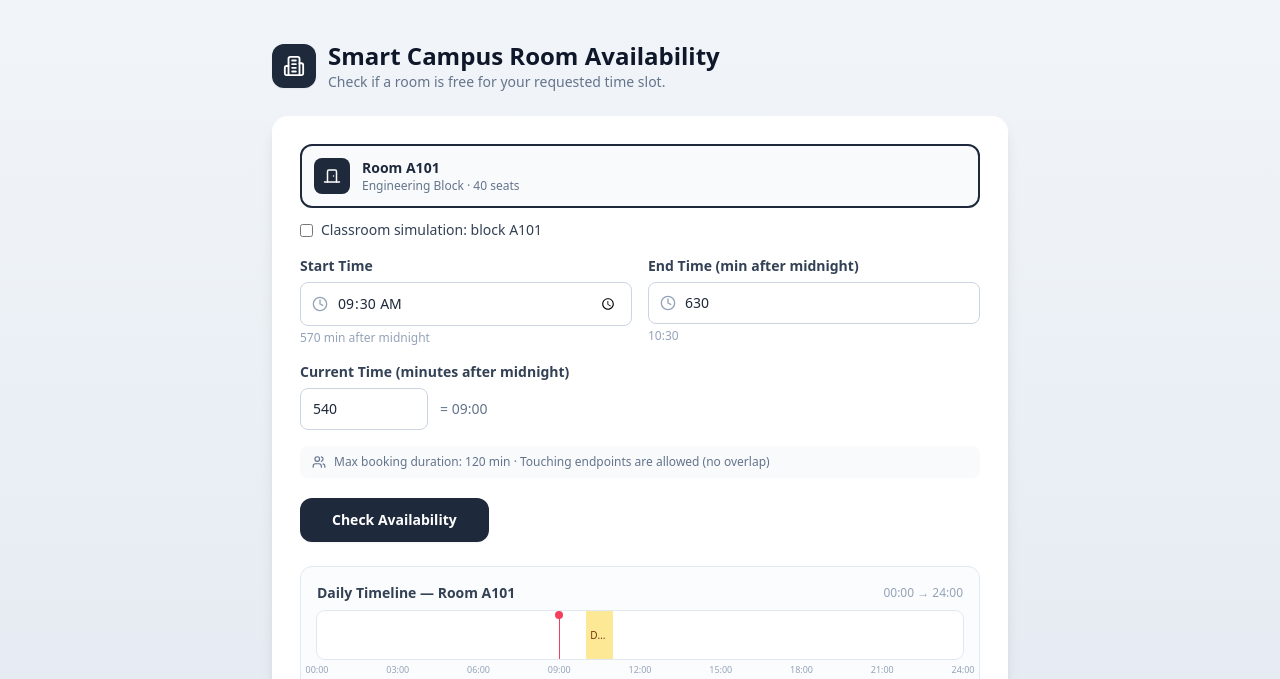
Scenario: Verified review findings › shows one room and changes its blocked scenario without mutating baseline data
Replace the text in the time field labelled "Start Time" with "11:00". click: coordinates (466, 304)
box: x1=300 y1=282 x2=632 y2=326
Replace the text in the number field labelled "End Time (min after midnight)" with "720". click: coordinates (814, 303)
box: x1=648 y1=282 x2=980 y2=324
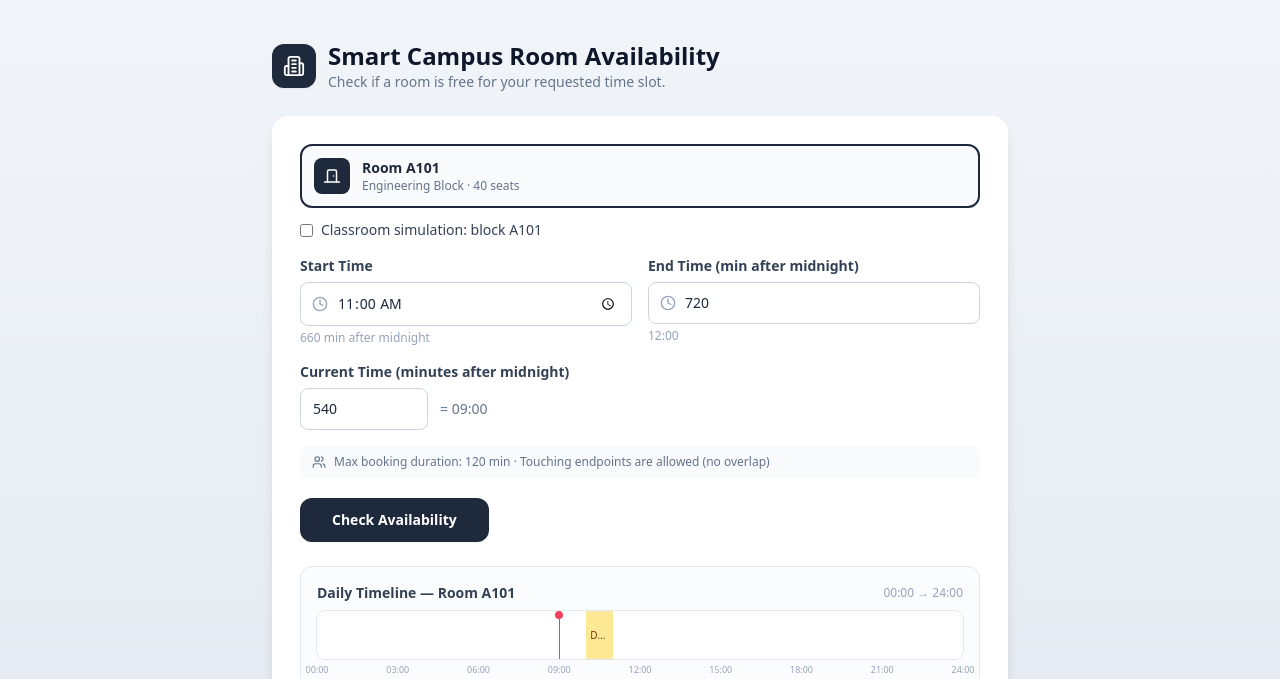
Click the checkbox labelled "Classroom simulation: block A101". click: coordinates (306, 230)
box: x1=300 y1=224 x2=313 y2=236
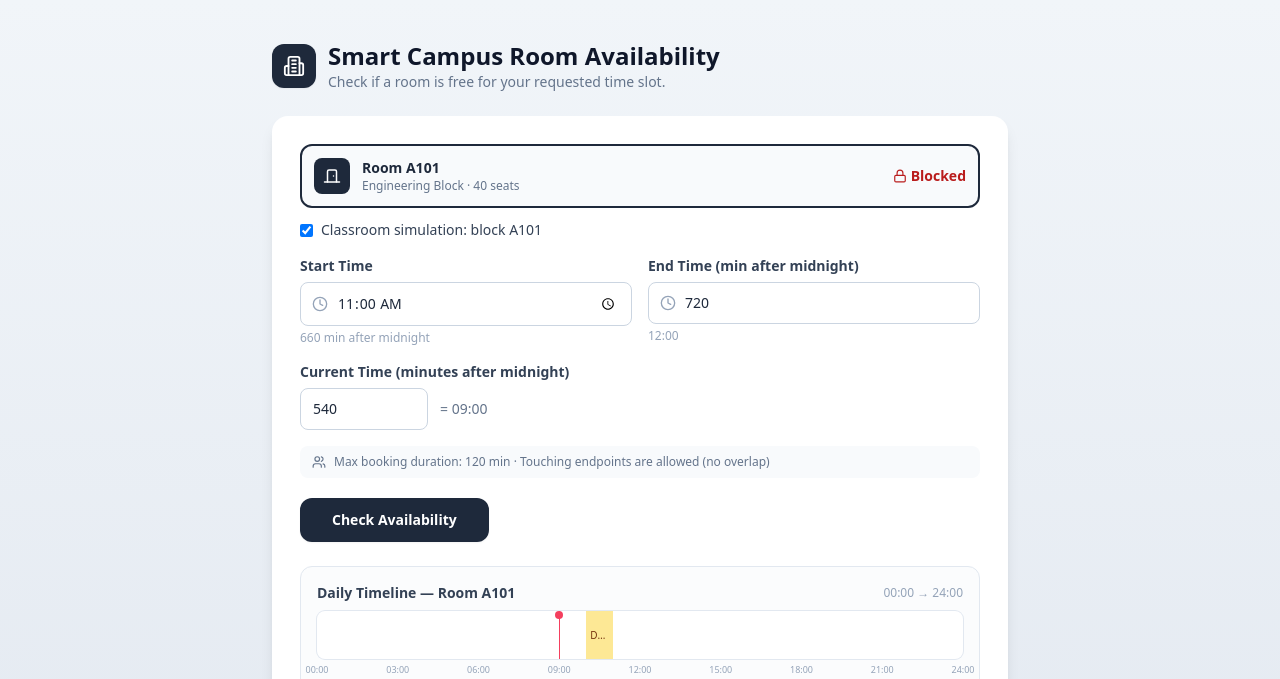
Click the button "Check Availability". click: coordinates (394, 520)
box: x1=300 y1=498 x2=489 y2=542
(page scrolled)
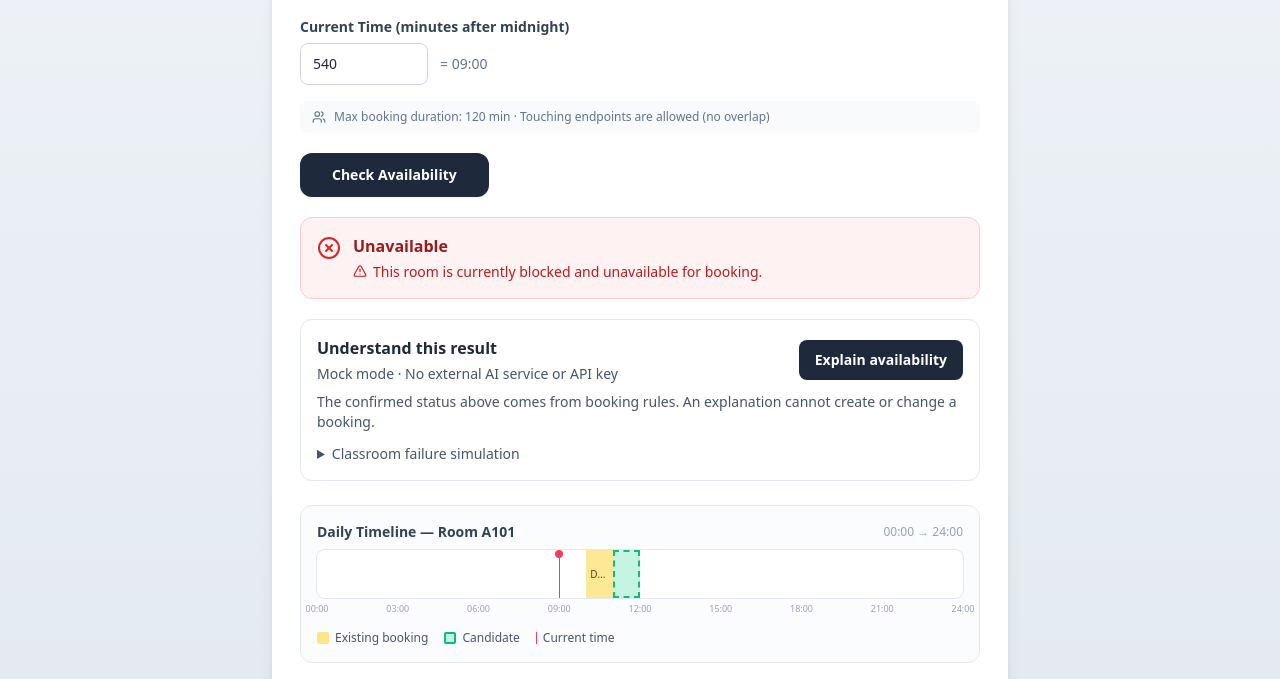
Check: the text "Unavailable" is shown, box x1=353 y1=235 x2=448 y2=257
Click the button "Explain availability". click: coordinates (881, 360)
box: x1=799 y1=340 x2=963 y2=380
(page scrolled)
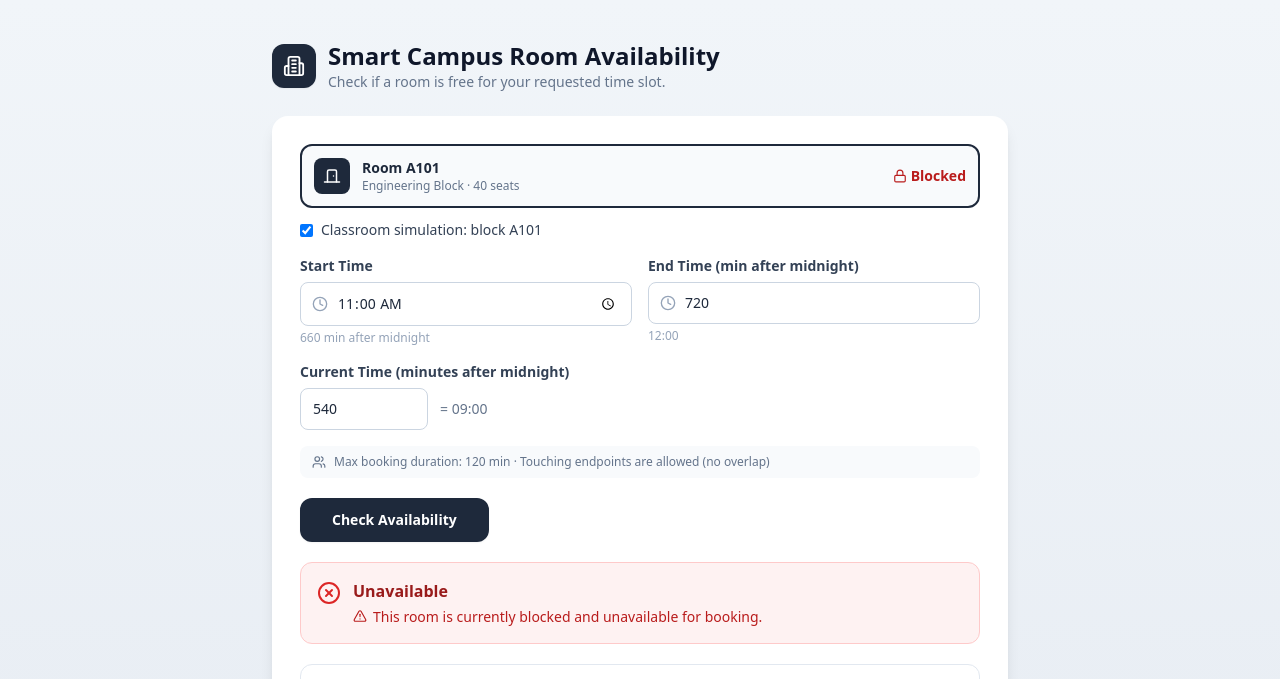
Click the checkbox labelled "Classroom simulation: block A101". click: coordinates (306, 230)
box: x1=300 y1=224 x2=313 y2=236
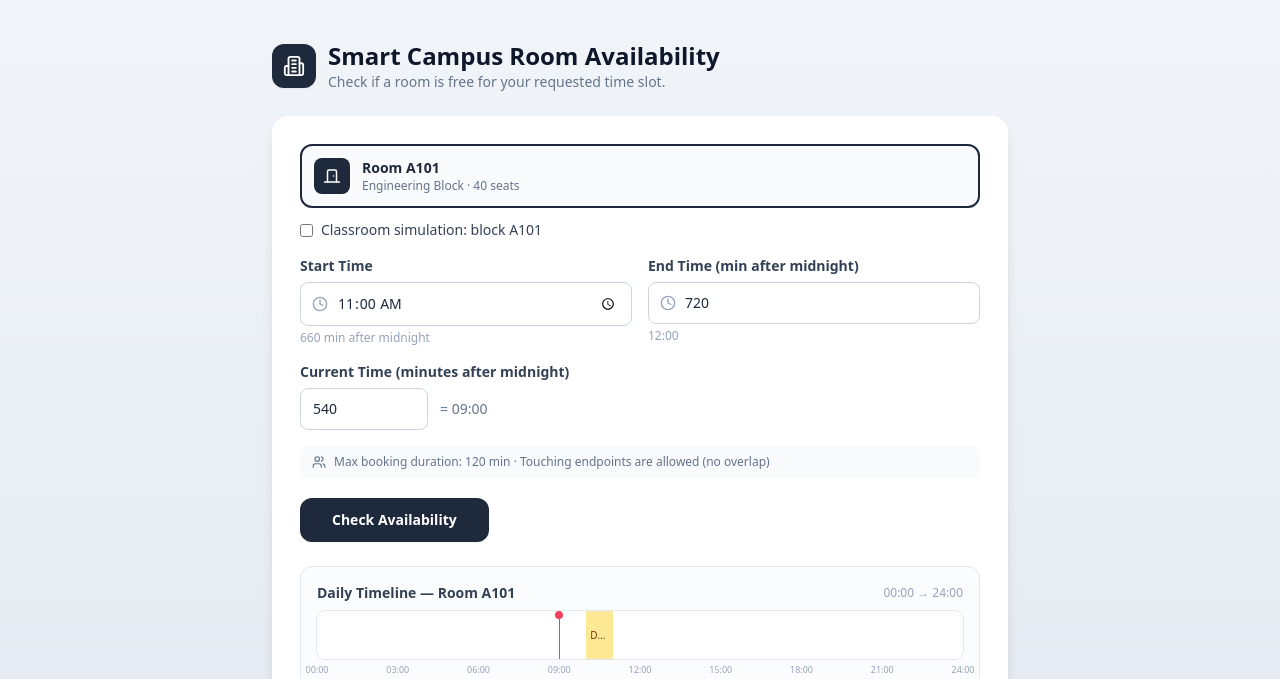
Click the button "Check Availability". click: coordinates (394, 520)
box: x1=300 y1=498 x2=489 y2=542
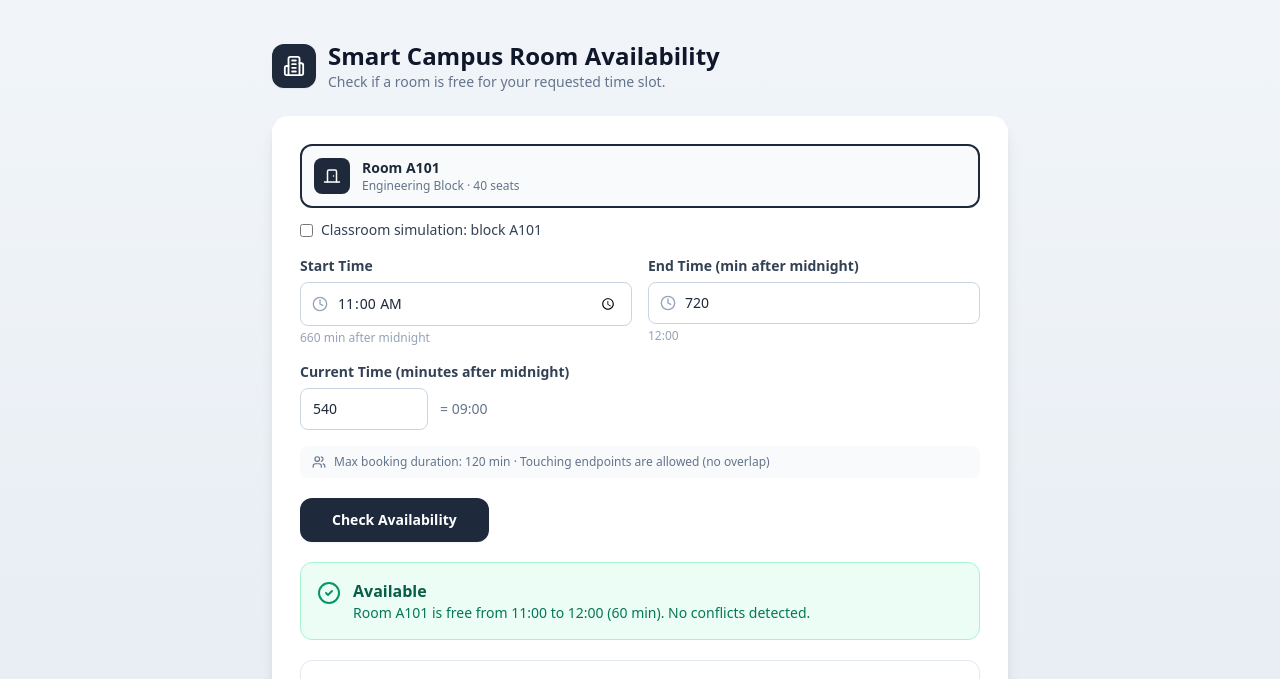
Check: the text "Available" is shown, box x1=353 y1=580 x2=427 y2=602
